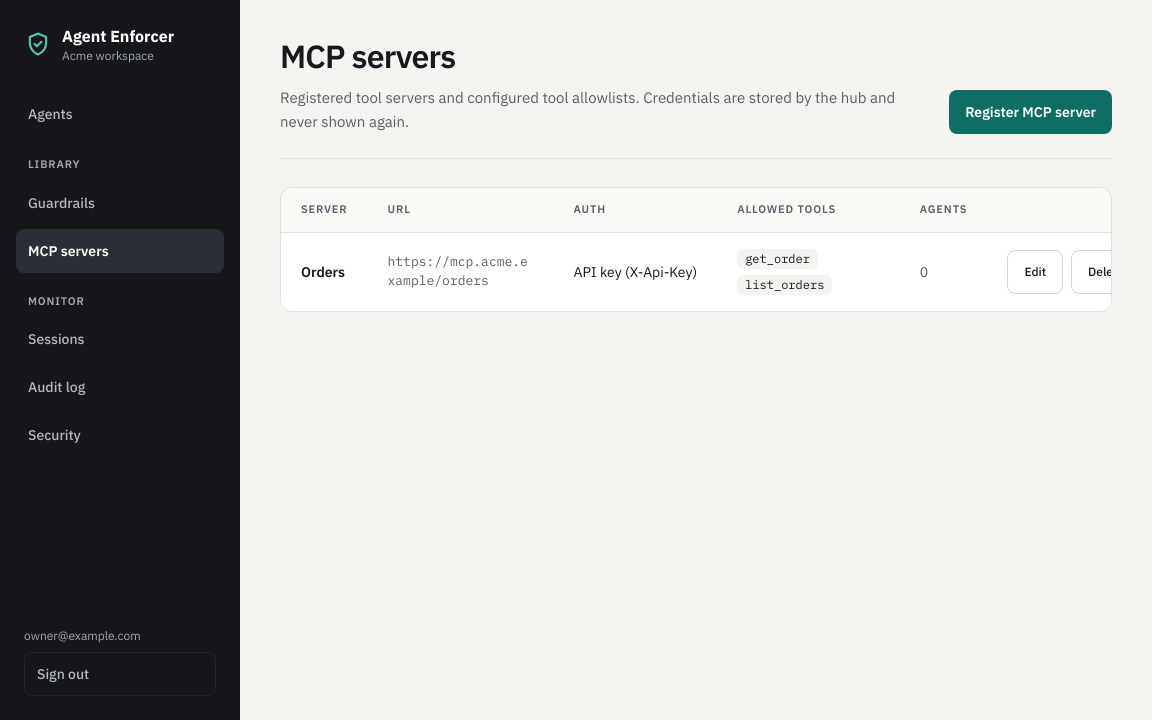
MCP servers › edits a server and sends only what changed
Expected: the element named "MCP servers table" is shown, [280,187,1112,312]
Click the button with aria-label "Edit Orders" at coordinates (1035, 272), box [1007,250,1063,294]
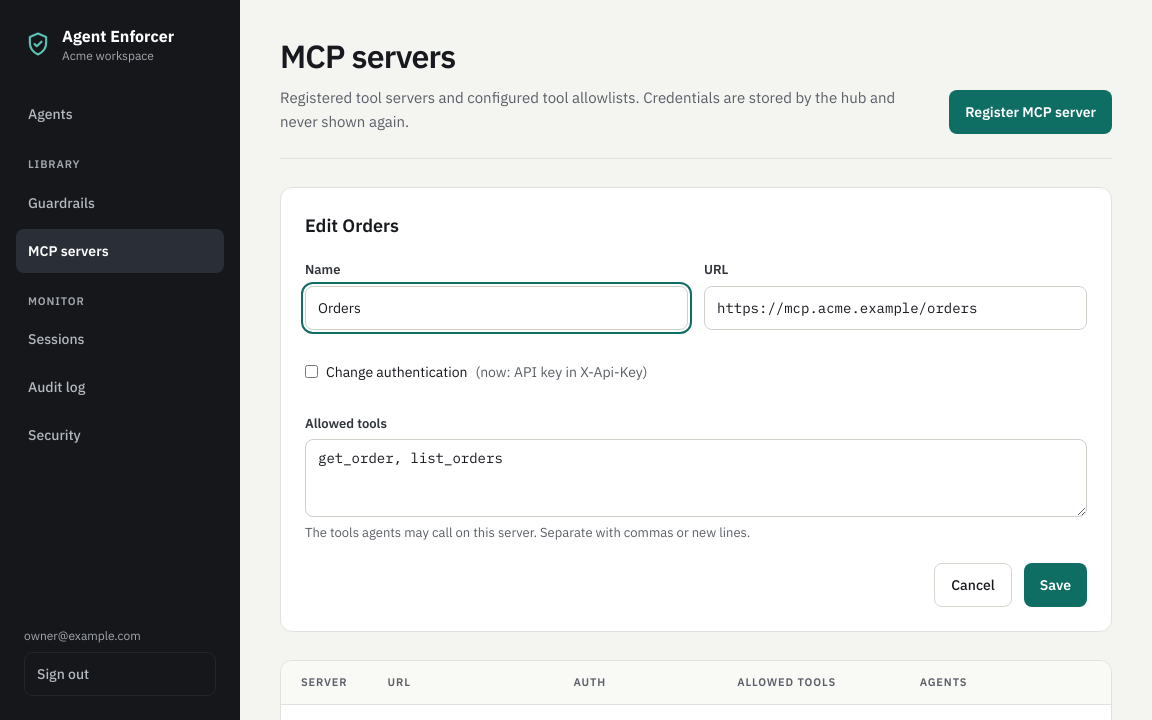
Expected: the field labelled "Name" holds "Orders", [305,286,688,330]
Expected: the text box labelled "Allowed tools" holds "get_order, list_orders"
Replace the text in the text box labelled "Allowed tools" with "get_order" at coordinates (696, 478), box [305,439,1087,517]
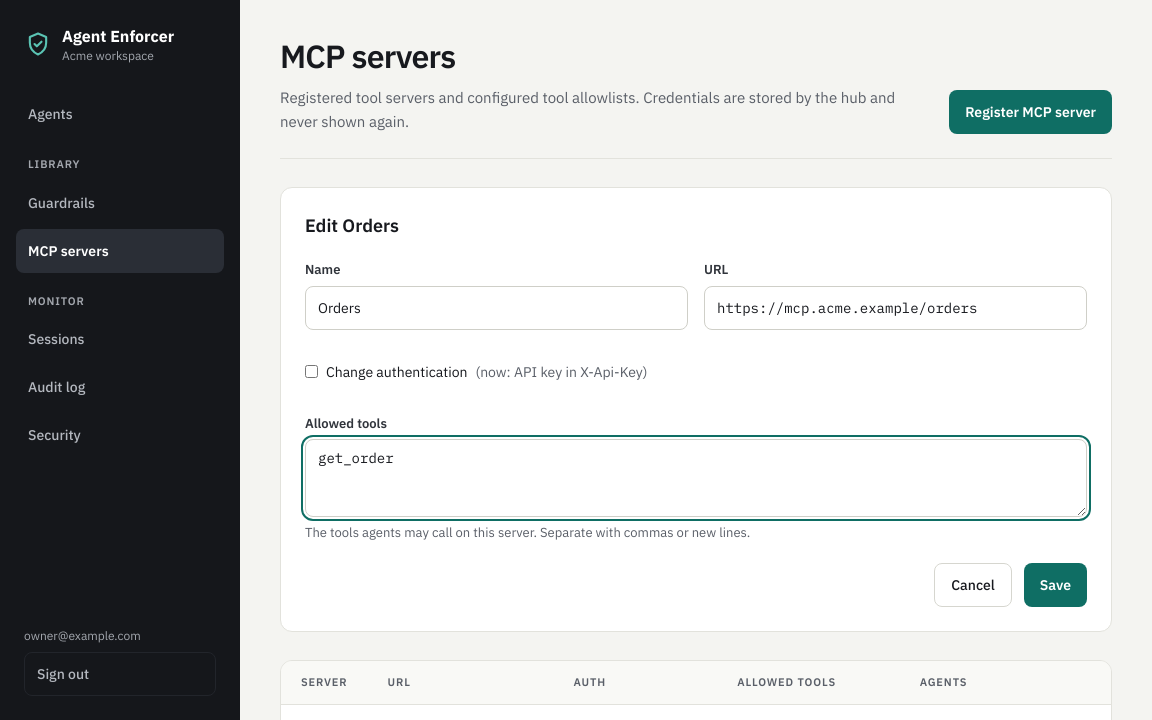
Click the button "Save" at coordinates (1055, 584), box [1024,562,1087,606]
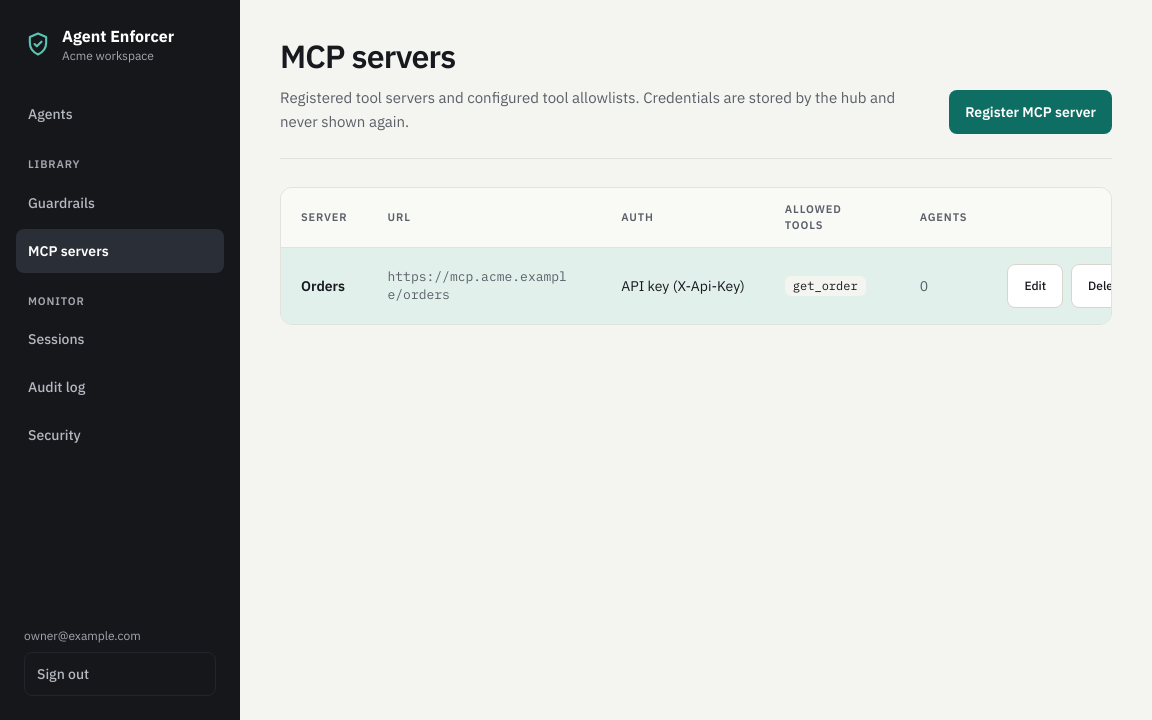
Expected: the heading "Edit Orders" is gone
Expected: the list named "Tools of Orders" reads "get_order", [793,278,858,293]
Expected: the list named "Tools of Orders" no longer shows "list_orders", [785,276,880,296]
